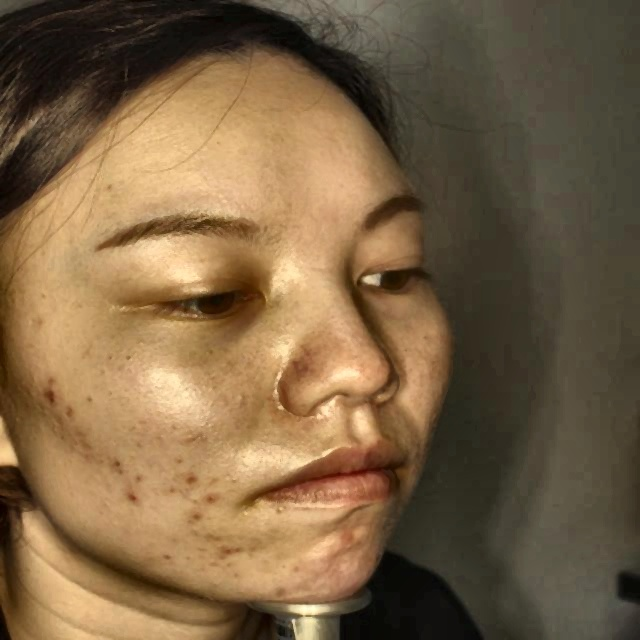pustule: (204, 536, 242, 561), (169, 462, 207, 485), (116, 485, 146, 512), (33, 380, 62, 405), (193, 486, 227, 505), (330, 530, 358, 549), (103, 459, 134, 474), (62, 398, 77, 427), (178, 506, 200, 525)
